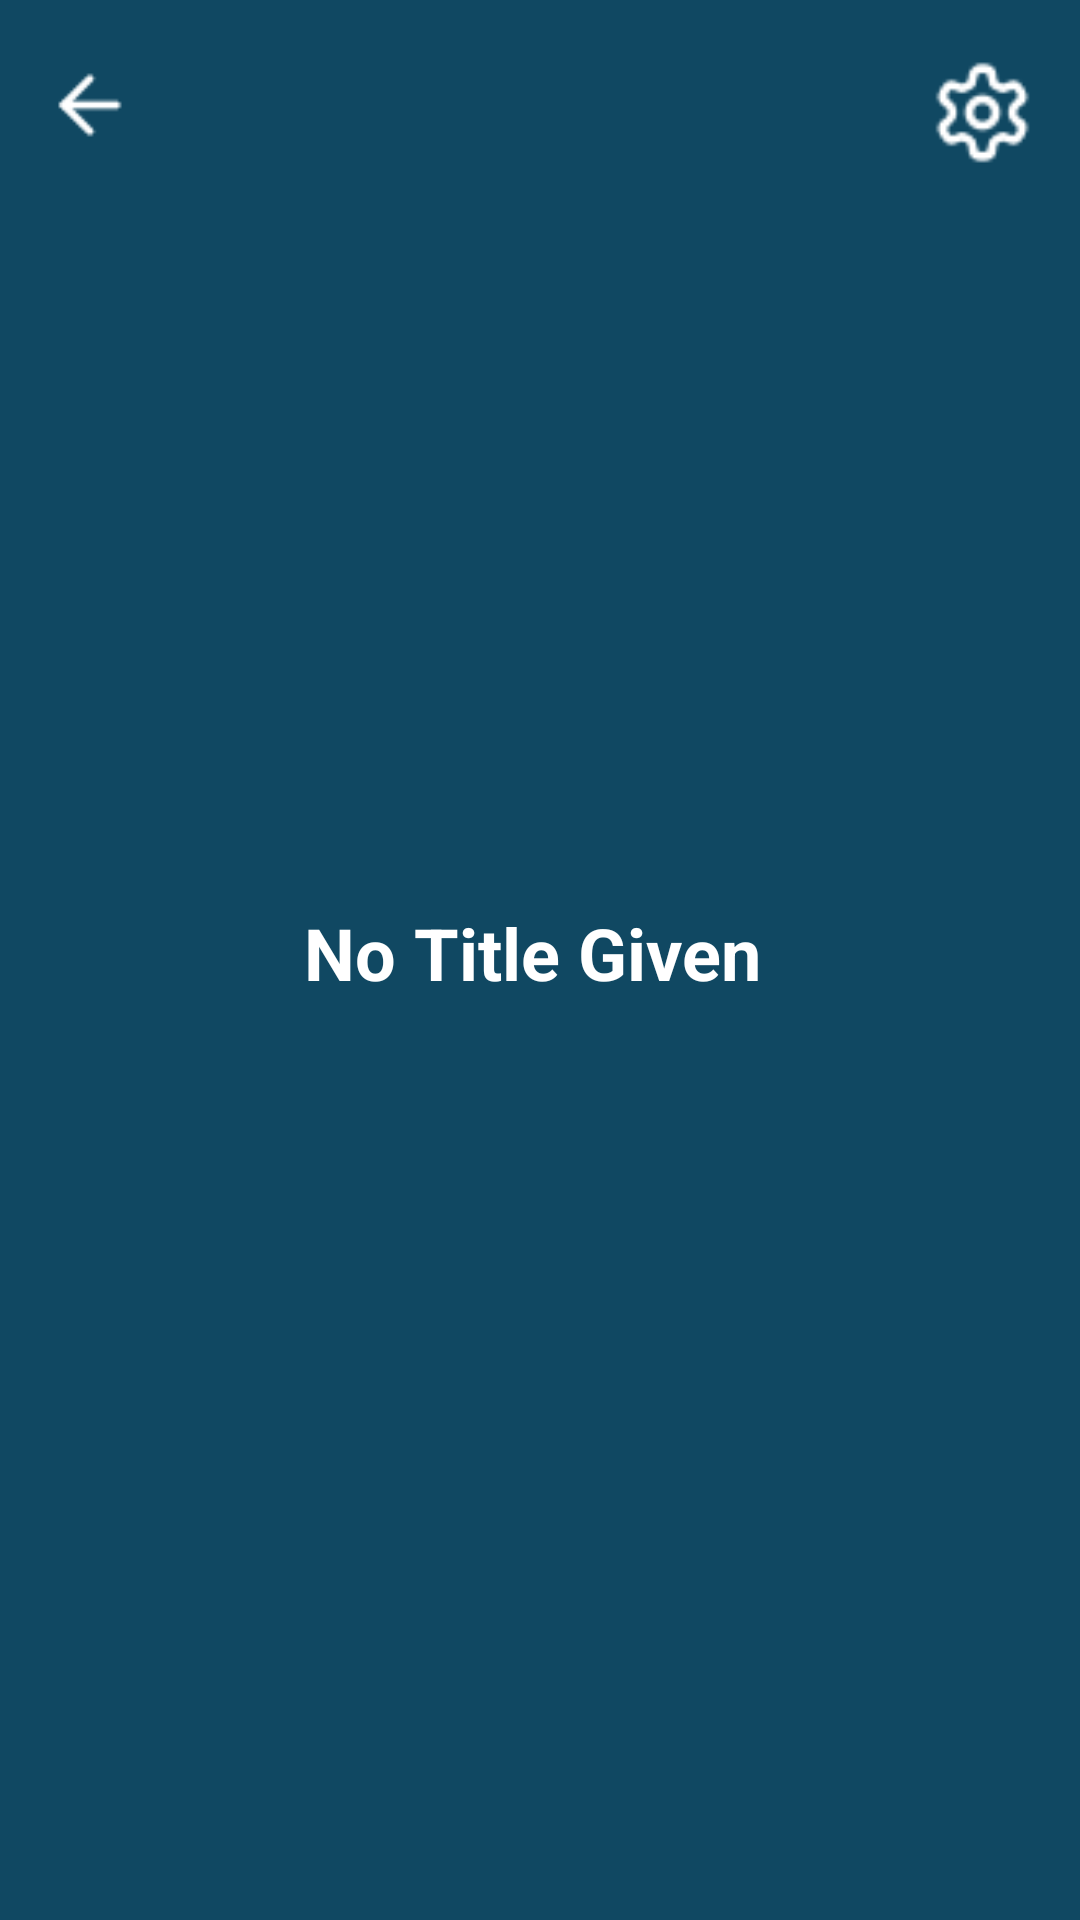

Icon bounding boxes for this 1080w x 1920h phone screenshot, format region(x1, y1, x2, y2):
settings: region(936, 62, 1029, 163)
